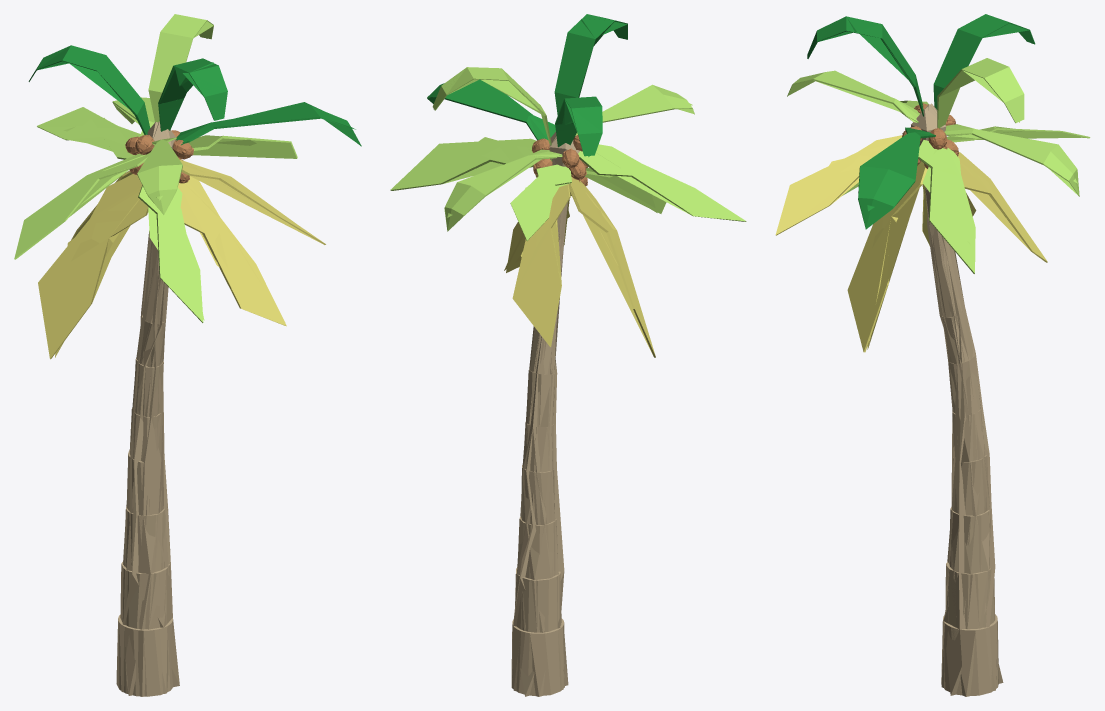
The model's file is palm_cocoCala_LOD.fbx.
3 renders of one model, left to right at view 1: azimuth 30°, elevation 25°; view 2: azimuth 150°, elevation 25°; view 3: azimuth 270°, elevation 25°, orthographic. The views are drawn at different scales.
Parts seen in each view (by area): view 1: palm_coco0, palm_coco3, palm_coco4, palm_coco1, palm_coco2; view 2: palm_coco0, palm_coco3, palm_coco1, palm_coco4, palm_coco2; view 3: palm_coco0, palm_coco3, palm_coco4, palm_coco1, palm_coco2.
Part boxes in pixels (x1,y1,x2,y2): palm_coco0: [14, 14, 361, 696]; palm_coco3: [21, 21, 360, 696]; palm_coco4: [36, 21, 355, 695]; palm_coco1: [30, 40, 320, 676]; palm_coco2: [90, 100, 259, 687]; palm_coco0: [390, 14, 746, 695]; palm_coco3: [399, 22, 716, 696]; palm_coco1: [391, 21, 688, 695]; palm_coco4: [420, 18, 692, 696]; palm_coco2: [427, 97, 686, 694]; palm_coco0: [775, 14, 1090, 695]; palm_coco3: [787, 23, 1081, 696]; palm_coco4: [813, 16, 1077, 695]; palm_coco1: [796, 21, 1077, 692]; palm_coco2: [808, 85, 1003, 694].
Size of the model in its own units: 335 by 624 by 270.
